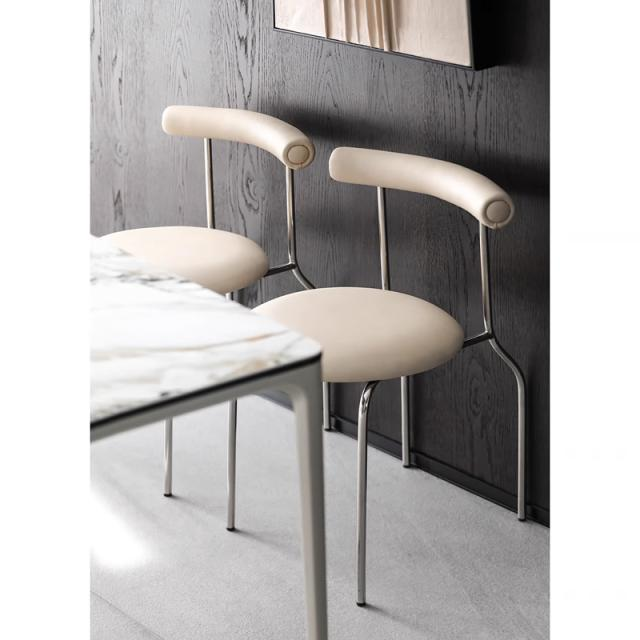chair: (225, 136, 542, 620), (91, 94, 323, 542), (235, 138, 528, 377), (93, 101, 319, 280)
